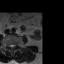CCS_normal: (11, 42, 13, 51)
LFS_stenosis: (15, 42, 17, 48)
LLS_stenosis: (13, 42, 15, 49)
RFS_stenosis: (7, 42, 9, 49)
RLS_stenosis: (9, 43, 11, 49)
